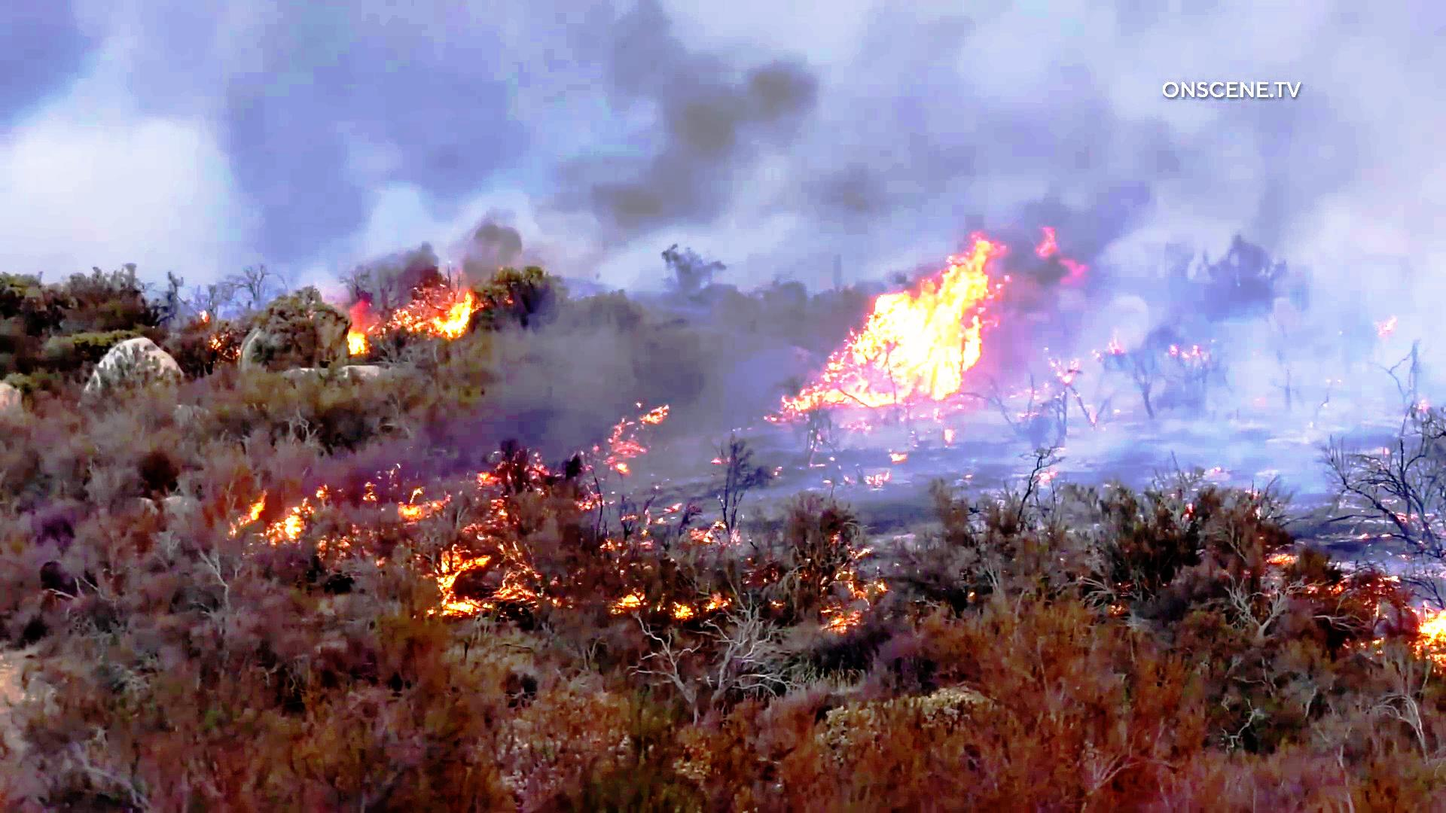fire: (785, 251, 993, 413), (330, 277, 478, 365)
smoke: (1121, 200, 1446, 488)
